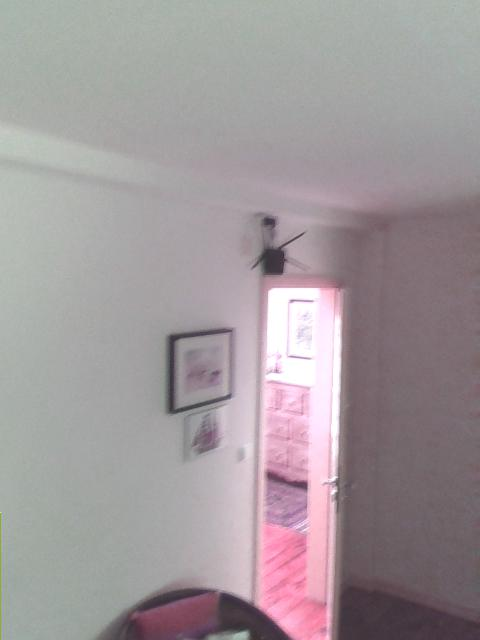semi_door: (253, 267, 358, 639)
